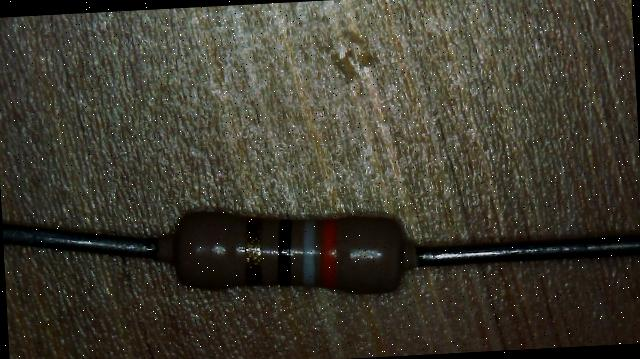black: (274, 218, 294, 284)
gold: (242, 218, 264, 284)
orange: (316, 219, 339, 288)
resistor: (154, 171, 417, 324)
white: (298, 219, 317, 284)
